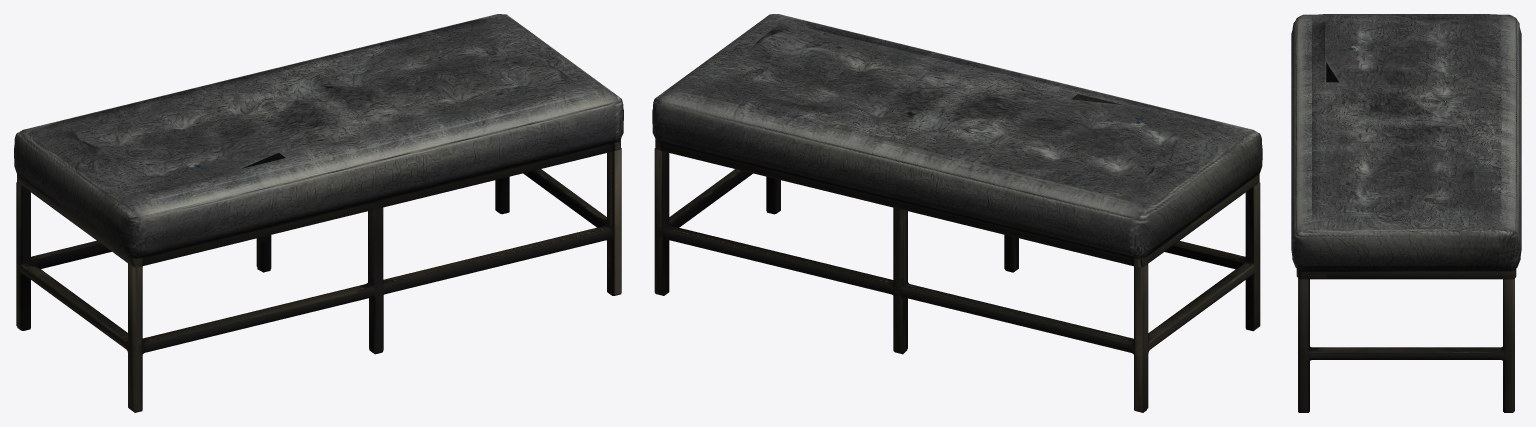
File: Bench_Leather_Gray__0403043402_texture.glb
The picture shows the model from 3 angles, left to right: view 1: azimuth 30°, elevation 25°; view 2: azimuth 150°, elevation 25°; view 3: azimuth 270°, elevation 25°; orthographic projection. The views are drawn at different scales.
Parts seen in each view (by area): view 1: Mesh_0.002; view 2: Mesh_0.002; view 3: Mesh_0.002.
Boxes of the visible parts, box(x1,y1,x2,y2) form: Mesh_0.002: box(14, 14, 623, 412); Mesh_0.002: box(652, 14, 1262, 412); Mesh_0.002: box(1291, 14, 1521, 412).
Bounding box in the file's own units: 1.18 × 0.4572 × 0.5104.
Materials: 1 (1 with a texture image).
